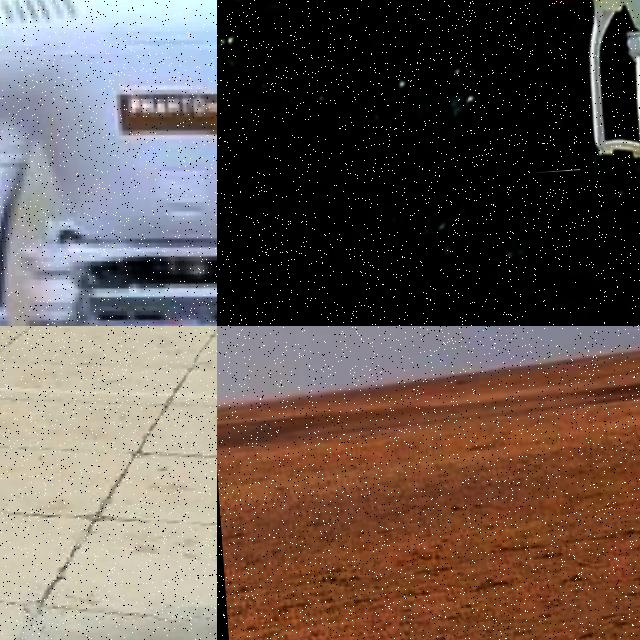drone: (0, 0, 217, 326), (454, 0, 640, 176)
